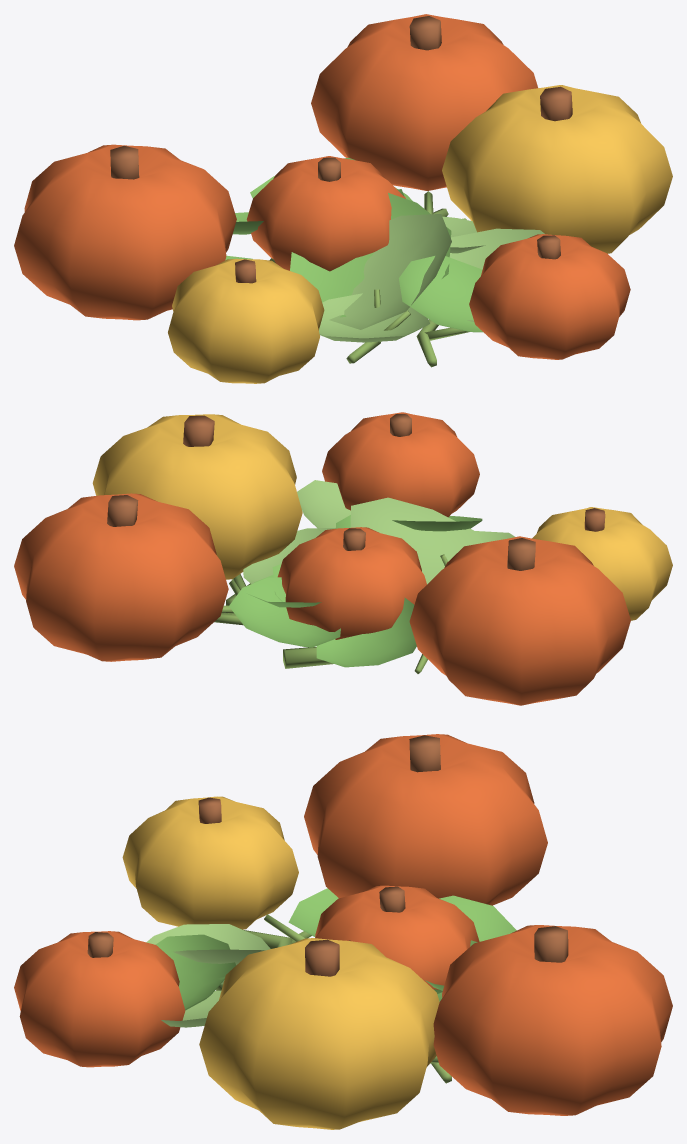
Rendered from vine_patch.glb.
3 renders of one model, top to bottom at view 1: azimuth 30°, elevation 25°; view 2: azimuth 150°, elevation 25°; view 3: azimuth 270°, elevation 25°, orthographic. The views are drawn at different scales.
Parts seen in each view (by area): view 1: vine_pumpkin_3, vine_pumpkin_2, vine_pumpkin_1, vine_leaves; view 2: vine_pumpkin_3, vine_pumpkin_2, vine_pumpkin_1, vine_leaves; view 3: vine_pumpkin_3, vine_pumpkin_2, vine_pumpkin_1, vine_leaves.
Boxes of the visible parts, box(x1,y1,x2,y2) form: vine_pumpkin_3: box(14, 85, 672, 342); vine_pumpkin_2: box(168, 14, 544, 383); vine_pumpkin_1: box(269, 189, 630, 367); vine_leaves: box(225, 216, 485, 363); vine_pumpkin_3: box(92, 414, 630, 705); vine_pumpkin_2: box(14, 480, 672, 661); vine_pumpkin_1: box(272, 412, 482, 668); vine_leaves: box(226, 516, 482, 673); vine_pumpkin_3: box(146, 734, 547, 1129); vine_pumpkin_2: box(122, 796, 672, 1115); vine_pumpkin_1: box(14, 931, 442, 1067); vine_leaves: box(155, 888, 338, 1010).
Bounding box in the file's own units: 1.83 × 0.4763 × 1.65.
